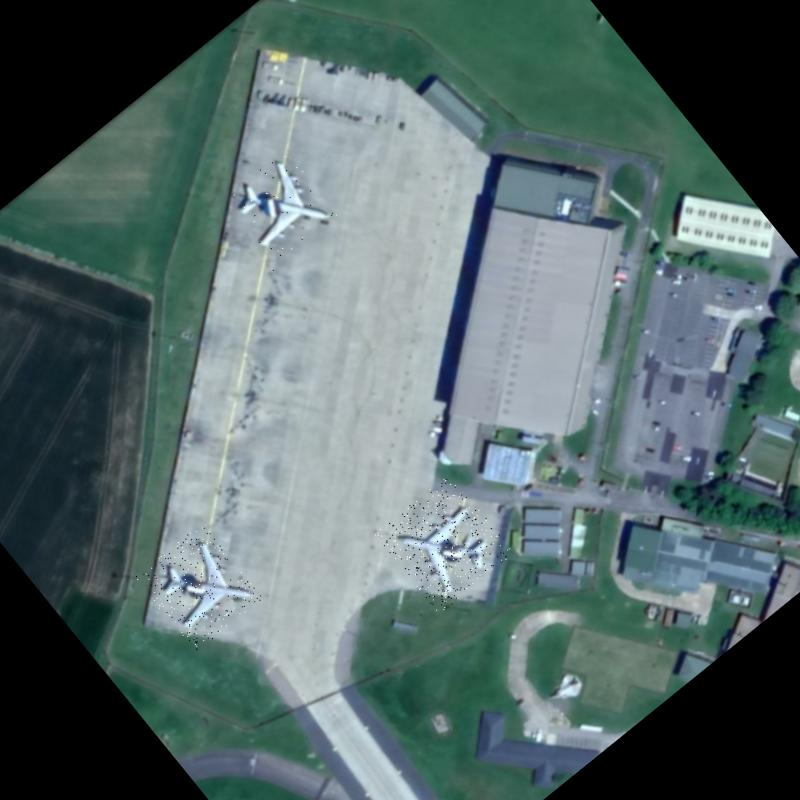A7: (374, 472, 515, 614), (208, 140, 340, 274), (134, 522, 263, 652)
